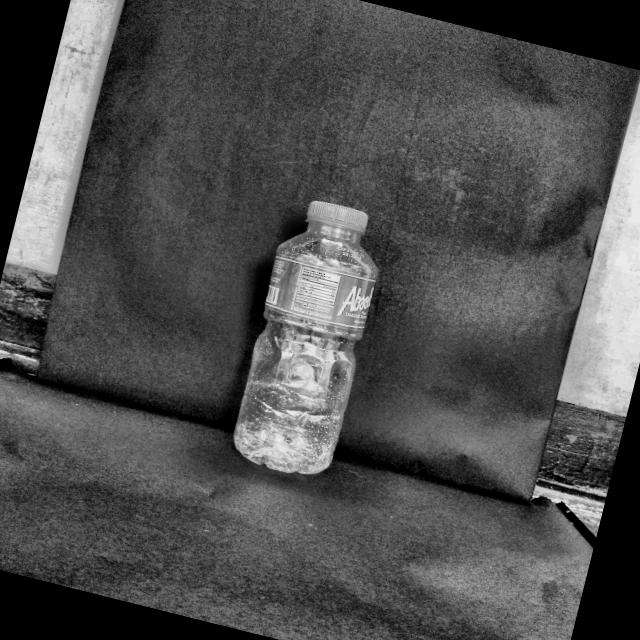Plastic-Bottle: (223, 190, 400, 486)
